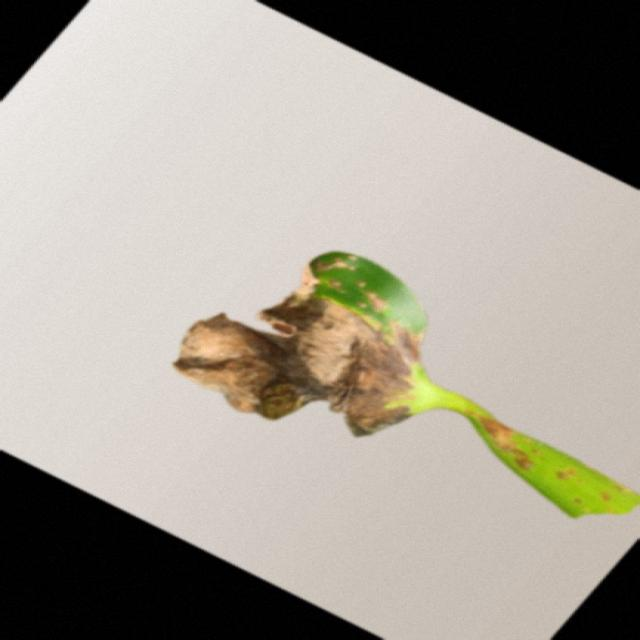daun berpenyakit karat: (175, 251, 638, 517)
